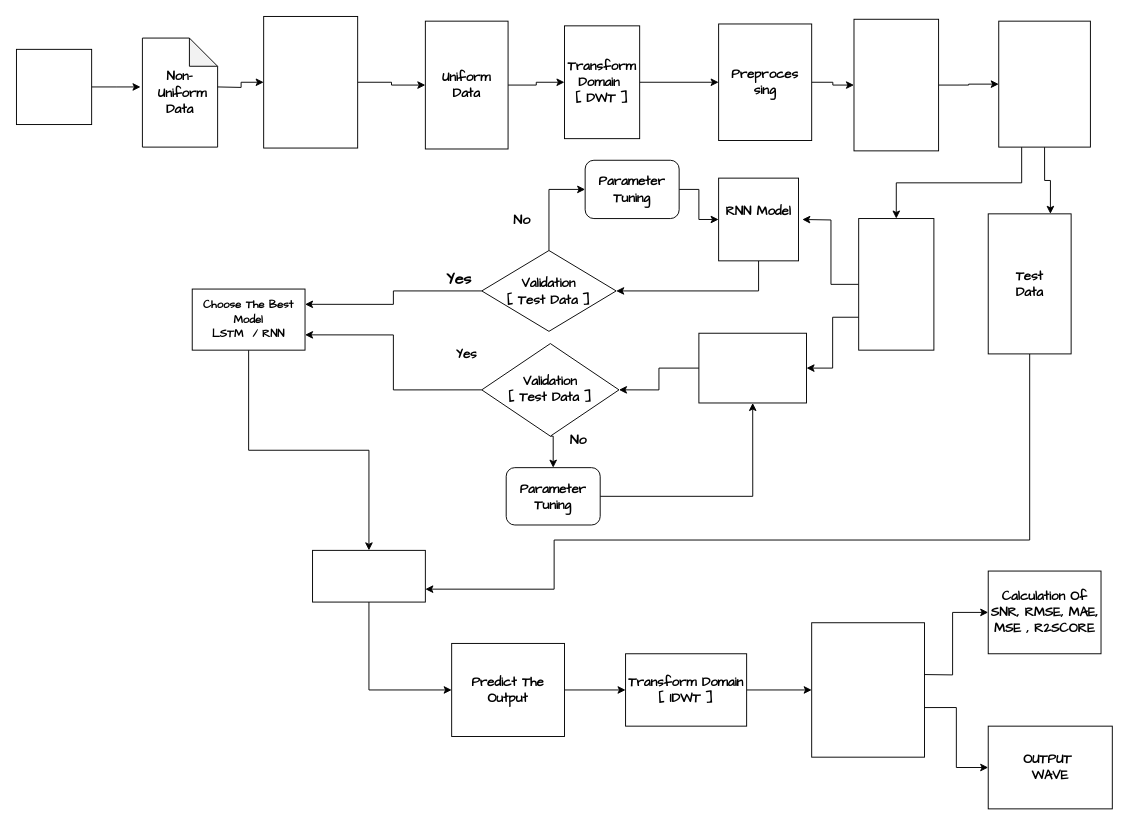
The diagram is 1129 pixels wide and 825 high, and some of its shapes have lost their labels. Each missing label, with the box of its shape:
Best Model: (312, 549, 425, 602)
Circuit Simulator: (16, 48, 92, 125)
Comparision Between Actutual & Predicted: (811, 622, 924, 757)
Dimension Reduction: (998, 20, 1090, 147)
Feature Similarity Check [ Correlation Matrix ]: (853, 18, 939, 151)
Interpolation: (263, 16, 358, 148)
LSTM Model: (698, 332, 807, 403)
Training & Validation Data: (858, 218, 934, 350)
